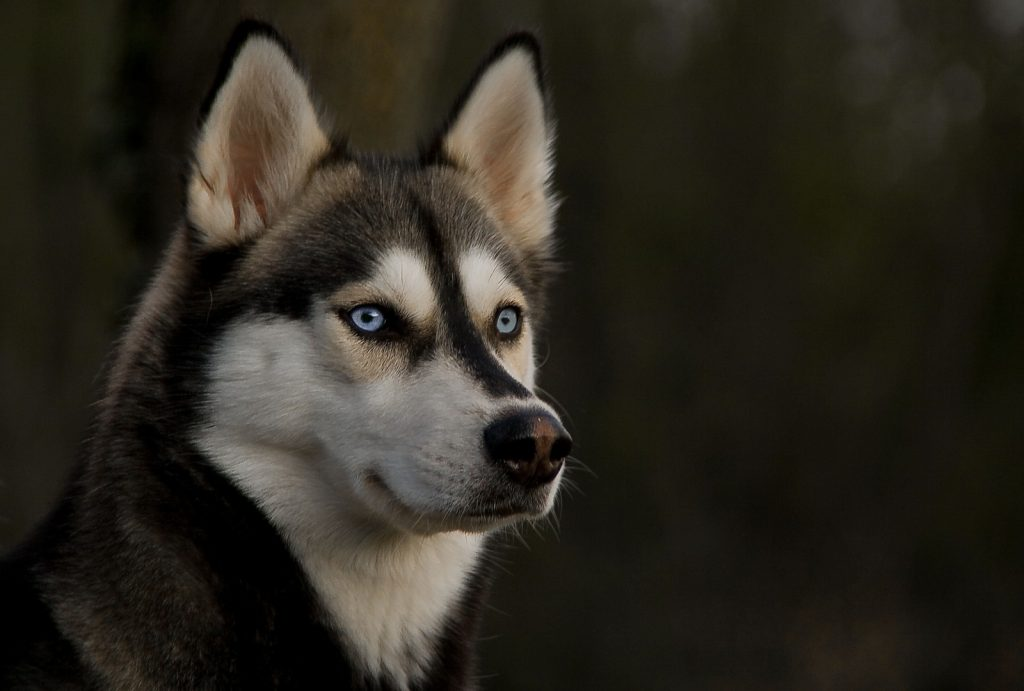husky: (34, 23, 620, 689)
